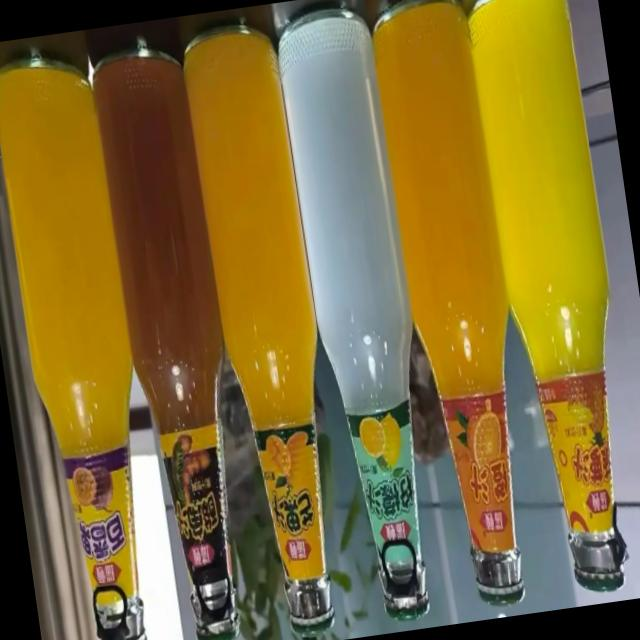bottle: (273, 1, 455, 627), (369, 0, 552, 612), (180, 18, 359, 640), (87, 40, 266, 640), (465, 0, 640, 600), (0, 51, 176, 640)
